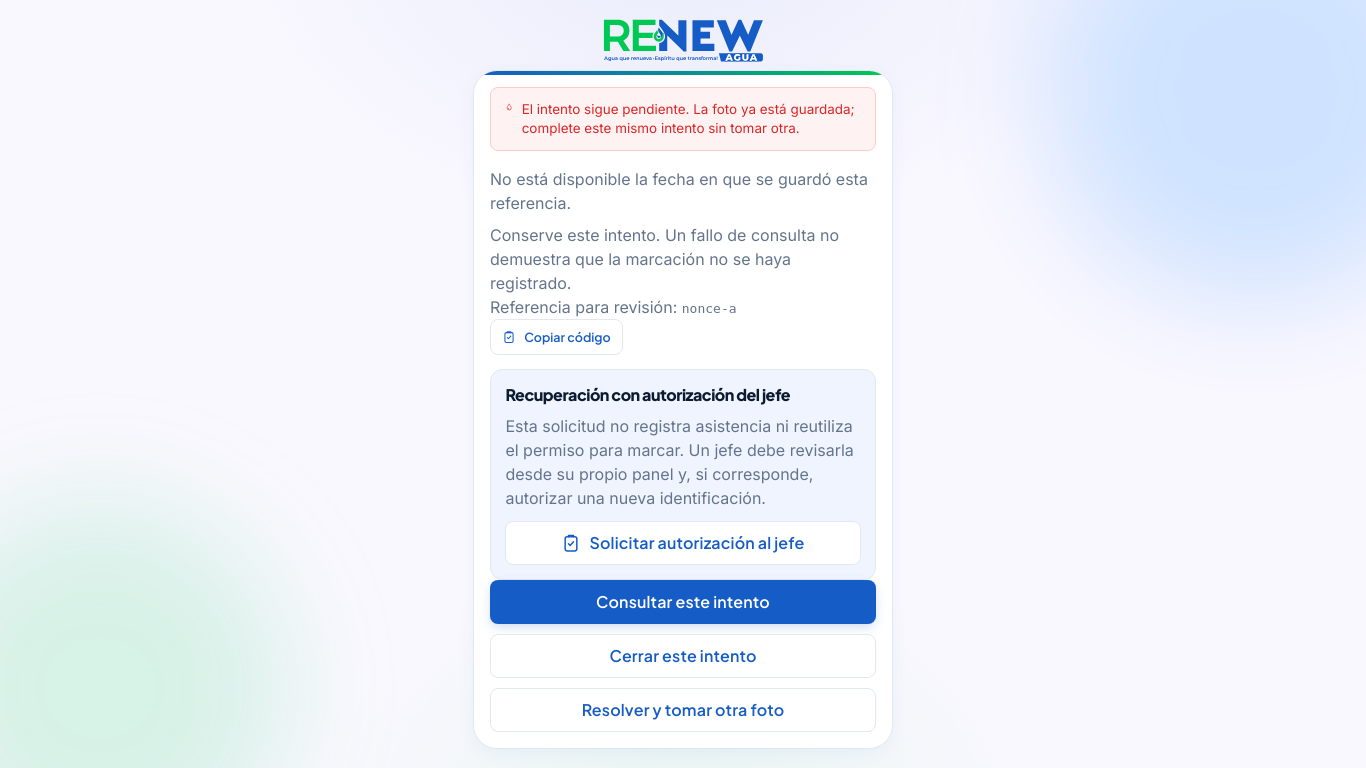
recuperación explícita › un rechazo no habilita nueva identificación ni cierra el intento
The width and height of the screenshot is (1366, 768).
Click the button with test id "kiosk-request-recovery" at point(683, 543), box [505, 521, 861, 565]
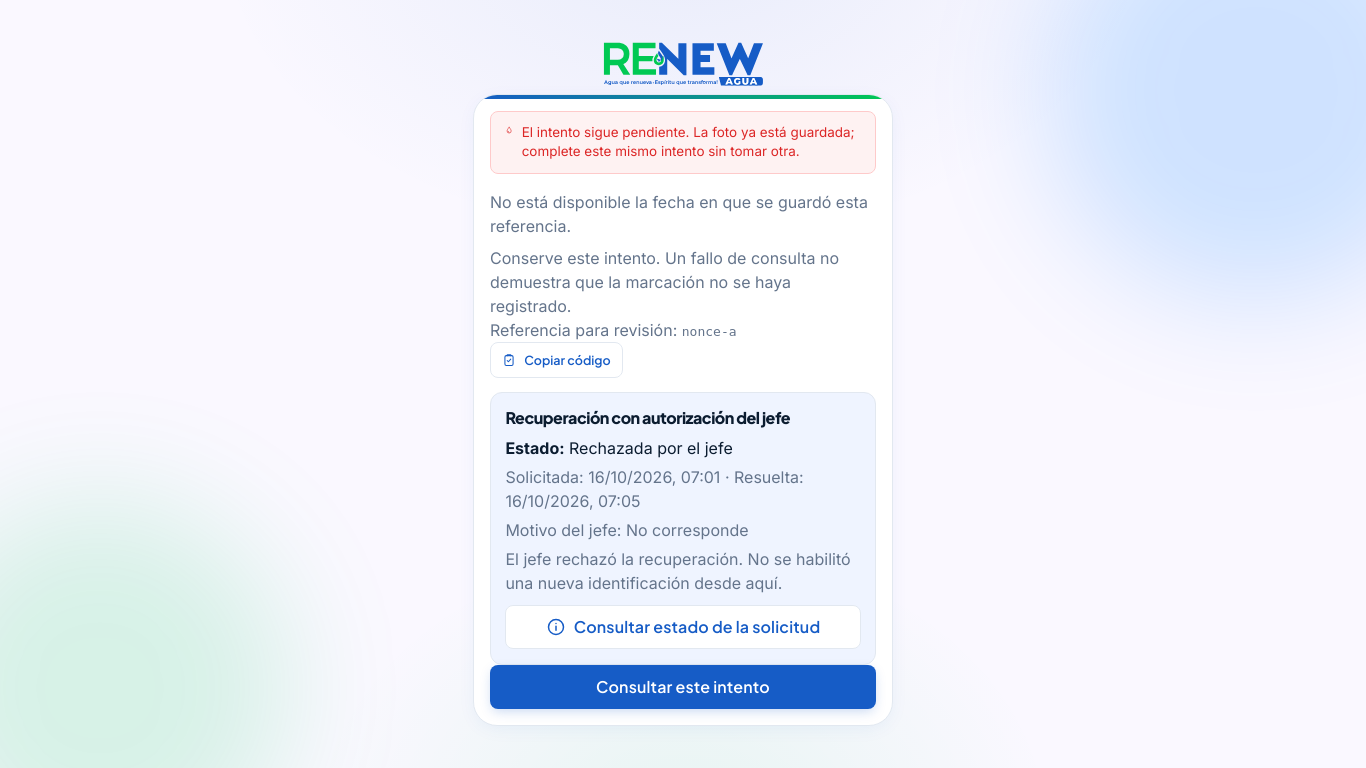
Now the element with test id "kiosk-recovery-status" shows "Rechazada por el jefe", box [569, 438, 733, 458]
Now the button with test id "kiosk-take-another" is gone
Now the button with test id "kiosk-cancel-attempt" is gone
